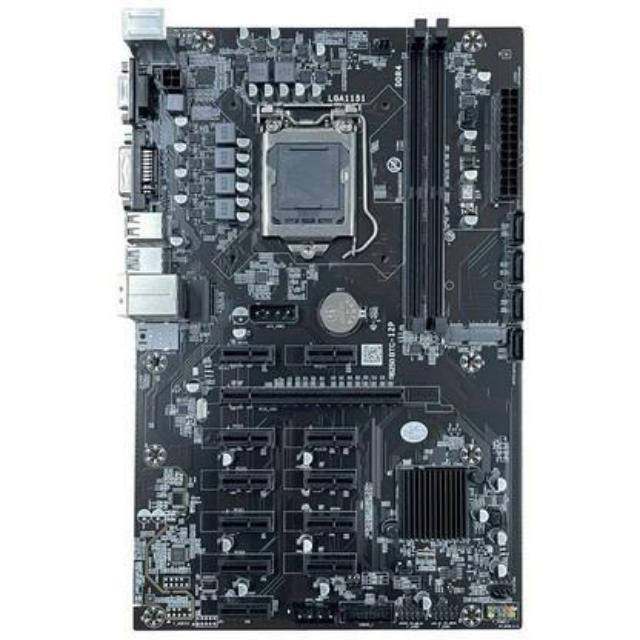Mainboard: (100, 9, 545, 640)
